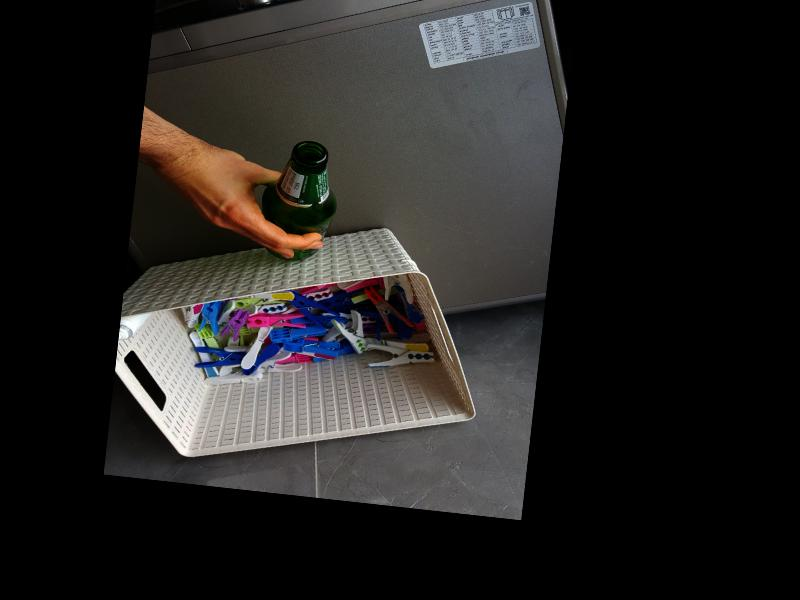Beer: (256, 136, 343, 264)
